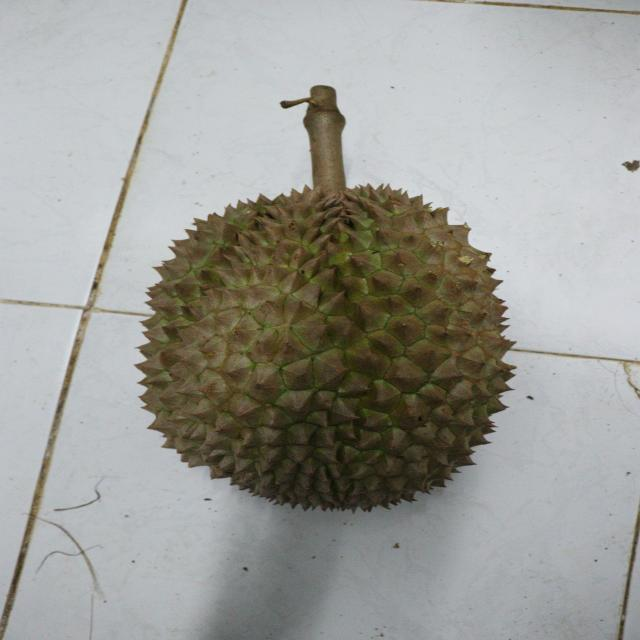mature: (133, 178, 520, 510)
